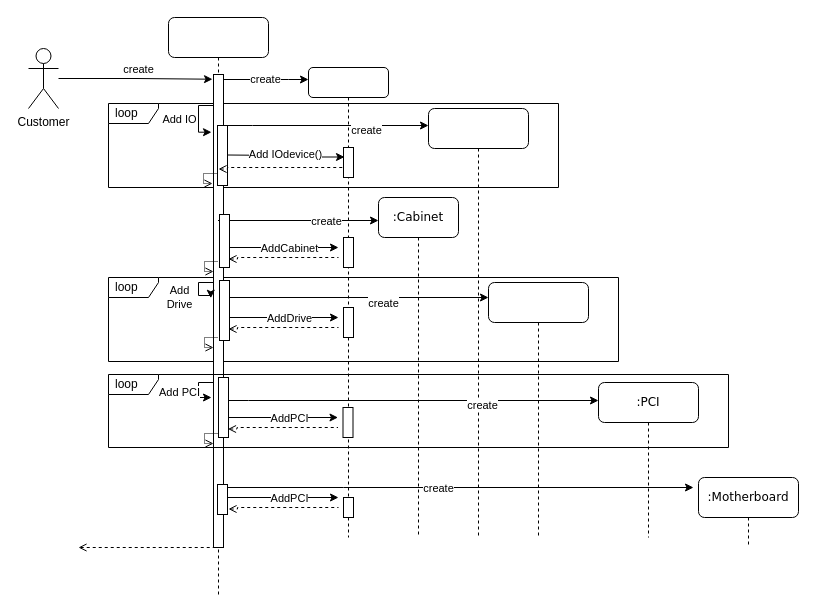
Some shapes in this 816 by 615 pixel diagram are drawn without their labels. Here are the shapes that lost their labels. From the top down, the box of each, then its label:
(168, 16, 268, 598): :Inventory
(308, 66, 388, 538): :Computer
(428, 108, 528, 538): :IODevice
(488, 282, 588, 538): :Drive
